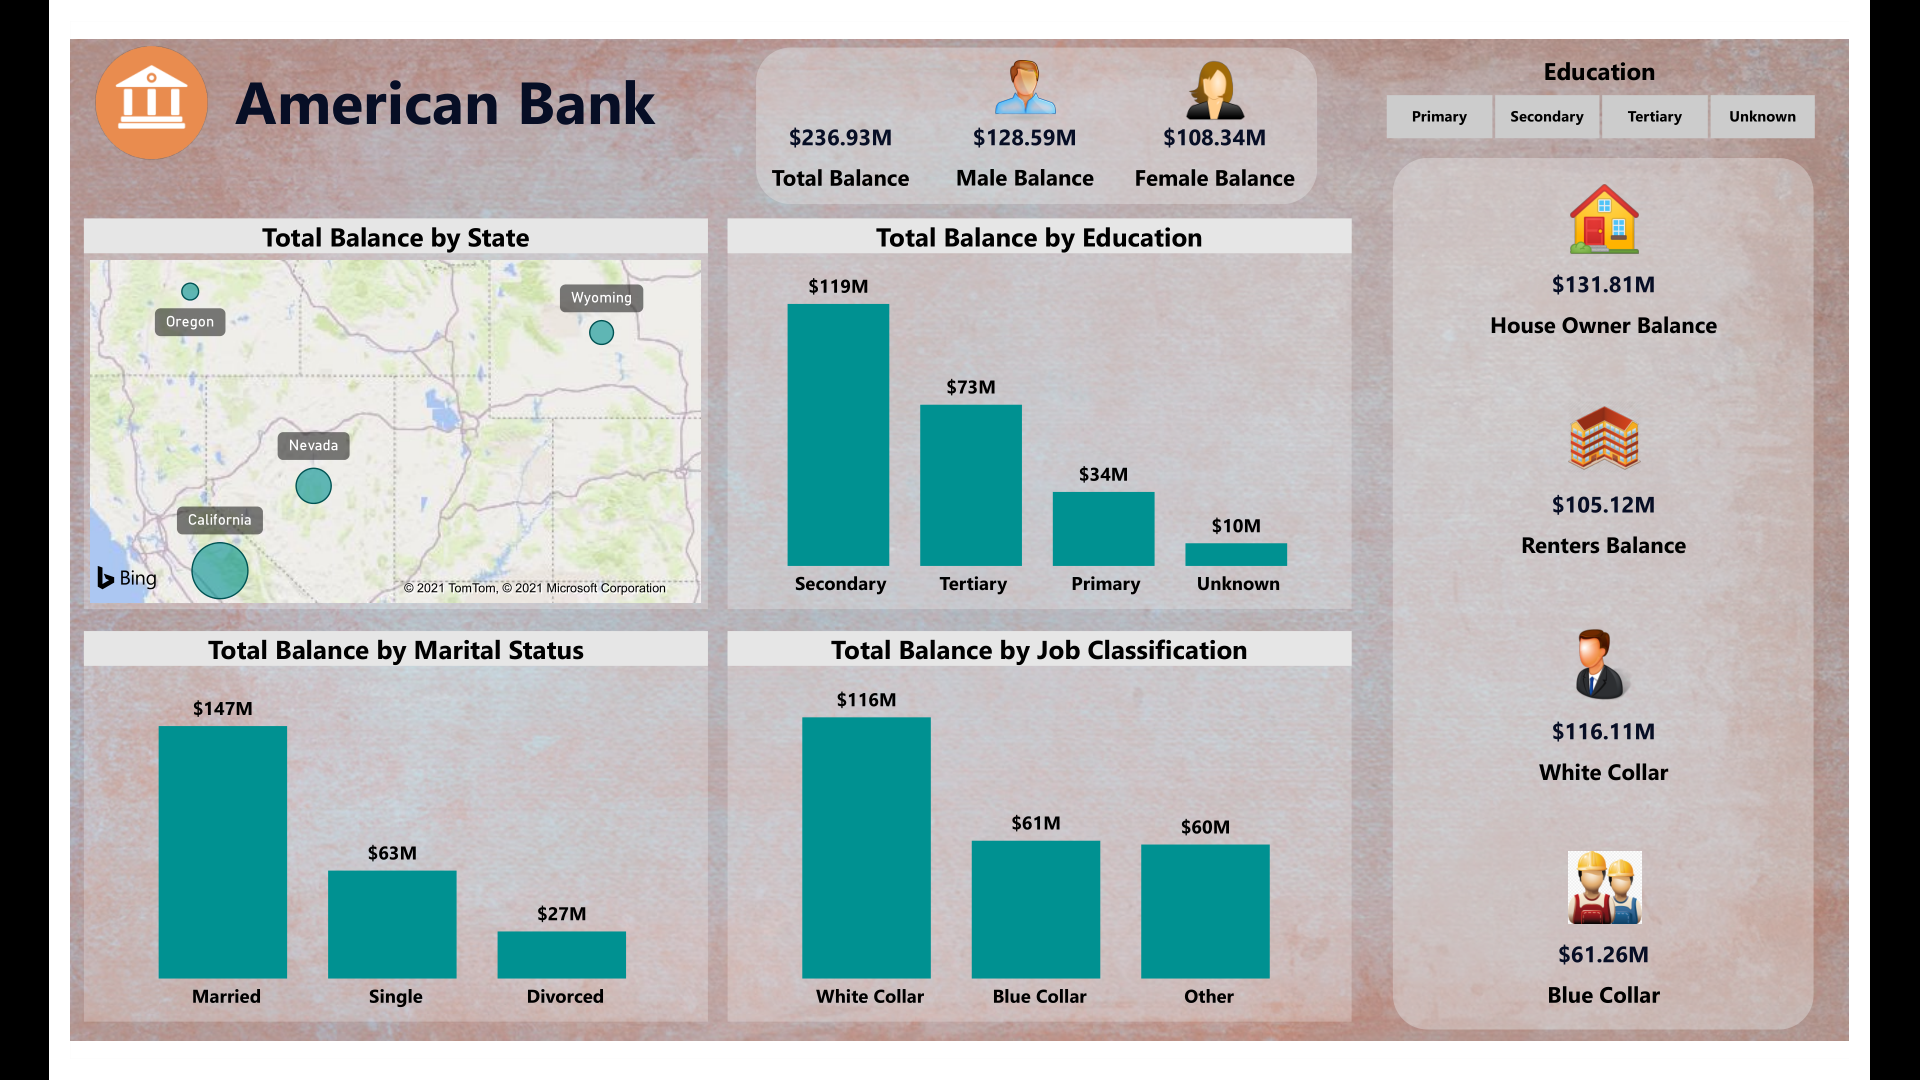

What the dashboard file says about the page in this screenshot:
{"tool":"powerbi","page":{"name":"Balance per Customer Demographics","canvas":[1280,720],"ordinal":0},"visuals":[{"type":"basicShape","box":[487.7,3,415.1,118.4],"z":0},{"type":"image","box":[10.3,0,95.5,91.4],"z":1000},{"type":"textbox","box":[114,10.3,322.6,71.9],"z":2000},{"type":"slicer","title":"Education","fields":{"Values":["AmericaBankNew.Education"]},"box":[921.7,10,358.3,67.7],"z":3000},{"type":"basicShape","box":[947.6,77.6,311.5,643],"z":4000},{"type":"clusteredColumnChart","fields":{"Y":["All Measures.Total Balance"],"Category":["AmericaBankNew.Education"]},"box":[472.8,128.4,448.9,280.7],"z":5000},{"type":"clusteredColumnChart","fields":{"Y":["All Measures.Total Balance"],"Category":["AmericaBankNew.Job Classification"]},"box":[472.8,426,448.9,280.7],"z":6000},{"type":"clusteredColumnChart","fields":{"Category":["AmericaBankNew.Marital Status"],"Y":["All Measures.Total Balance"]},"box":[10,426,448.9,280.7],"z":7000},{"type":"map","fields":{"Category":["AmericaBankNew.State"],"Size":["All Measures.Total Balance"]},"box":[10,128.4,448.9,280.7],"z":8000},{"type":"card","fields":{"Values":["All Measures.Total Balance"]},"box":[495.7,53.7,117.4,57.7],"z":9000},{"type":"card","fields":{"Values":["All Measures.Male Balance"]},"box":[628.3,53.3,117,57.9],"z":10000},{"type":"card","fields":{"Values":["All Measures.Female Balance"]},"box":[760.4,53.7,127.4,57.7],"z":11000},{"type":"image","box":[652.9,10,67.7,52.8],"z":12000},{"type":"image","box":[788.3,10,70.7,52.8],"z":13000},{"type":"card","fields":{"Values":["All Measures.House Owner Balance"]},"box":[1012.3,159.3,182.1,57.7],"z":14000},{"type":"card","fields":{"Values":["All Measures.Renters Balance"]},"box":[1012.3,317.5,182.1,57.7],"z":15000},{"type":"card","fields":{"Values":["All Measures.White Collar"]},"box":[1012.3,480.7,182.1,57.7],"z":16000},{"type":"card","fields":{"Values":["All Measures.Blue Collar"]},"box":[1012.3,641,182.1,57.7],"z":17000},{"type":"image","box":[1067,97.5,73.7,61.7],"z":18000},{"type":"image","box":[1067,255.8,73.7,61.7],"z":19000},{"type":"image","box":[1067,419,73.7,61.7],"z":20000},{"type":"image","box":[1067,579.3,73.7,61.7],"z":21000}]}

Visuals, with their boxes in screenshot pixels (x1, y1, x2, y2), scaled from the page's 1280x720 canvas onto the 1920x1080 screenshot:
basicShape: box=[732, 4, 1354, 182]
image: box=[15, 0, 159, 137]
textbox: box=[171, 15, 655, 123]
"Education" slicer: box=[1383, 15, 1919, 117]
basicShape: box=[1421, 116, 1889, 1079]
clusteredColumnChart - All Measures.Total Balance x AmericaBankNew.Education: box=[709, 193, 1383, 614]
clusteredColumnChart - All Measures.Total Balance x AmericaBankNew.Job Classification: box=[709, 639, 1383, 1060]
clusteredColumnChart - AmericaBankNew.Marital Status x All Measures.Total Balance: box=[15, 639, 688, 1060]
map - AmericaBankNew.State x All Measures.Total Balance: box=[15, 193, 688, 614]
card - All Measures.Total Balance: box=[744, 81, 920, 167]
card - All Measures.Male Balance: box=[942, 80, 1118, 167]
card - All Measures.Female Balance: box=[1141, 81, 1332, 167]
image: box=[979, 15, 1081, 94]
image: box=[1182, 15, 1288, 94]
card - All Measures.House Owner Balance: box=[1518, 239, 1792, 326]
card - All Measures.Renters Balance: box=[1518, 476, 1792, 563]
card - All Measures.White Collar: box=[1518, 721, 1792, 808]
card - All Measures.Blue Collar: box=[1518, 962, 1792, 1048]
image: box=[1600, 146, 1711, 239]
image: box=[1600, 384, 1711, 476]
image: box=[1600, 628, 1711, 721]
image: box=[1600, 869, 1711, 962]
